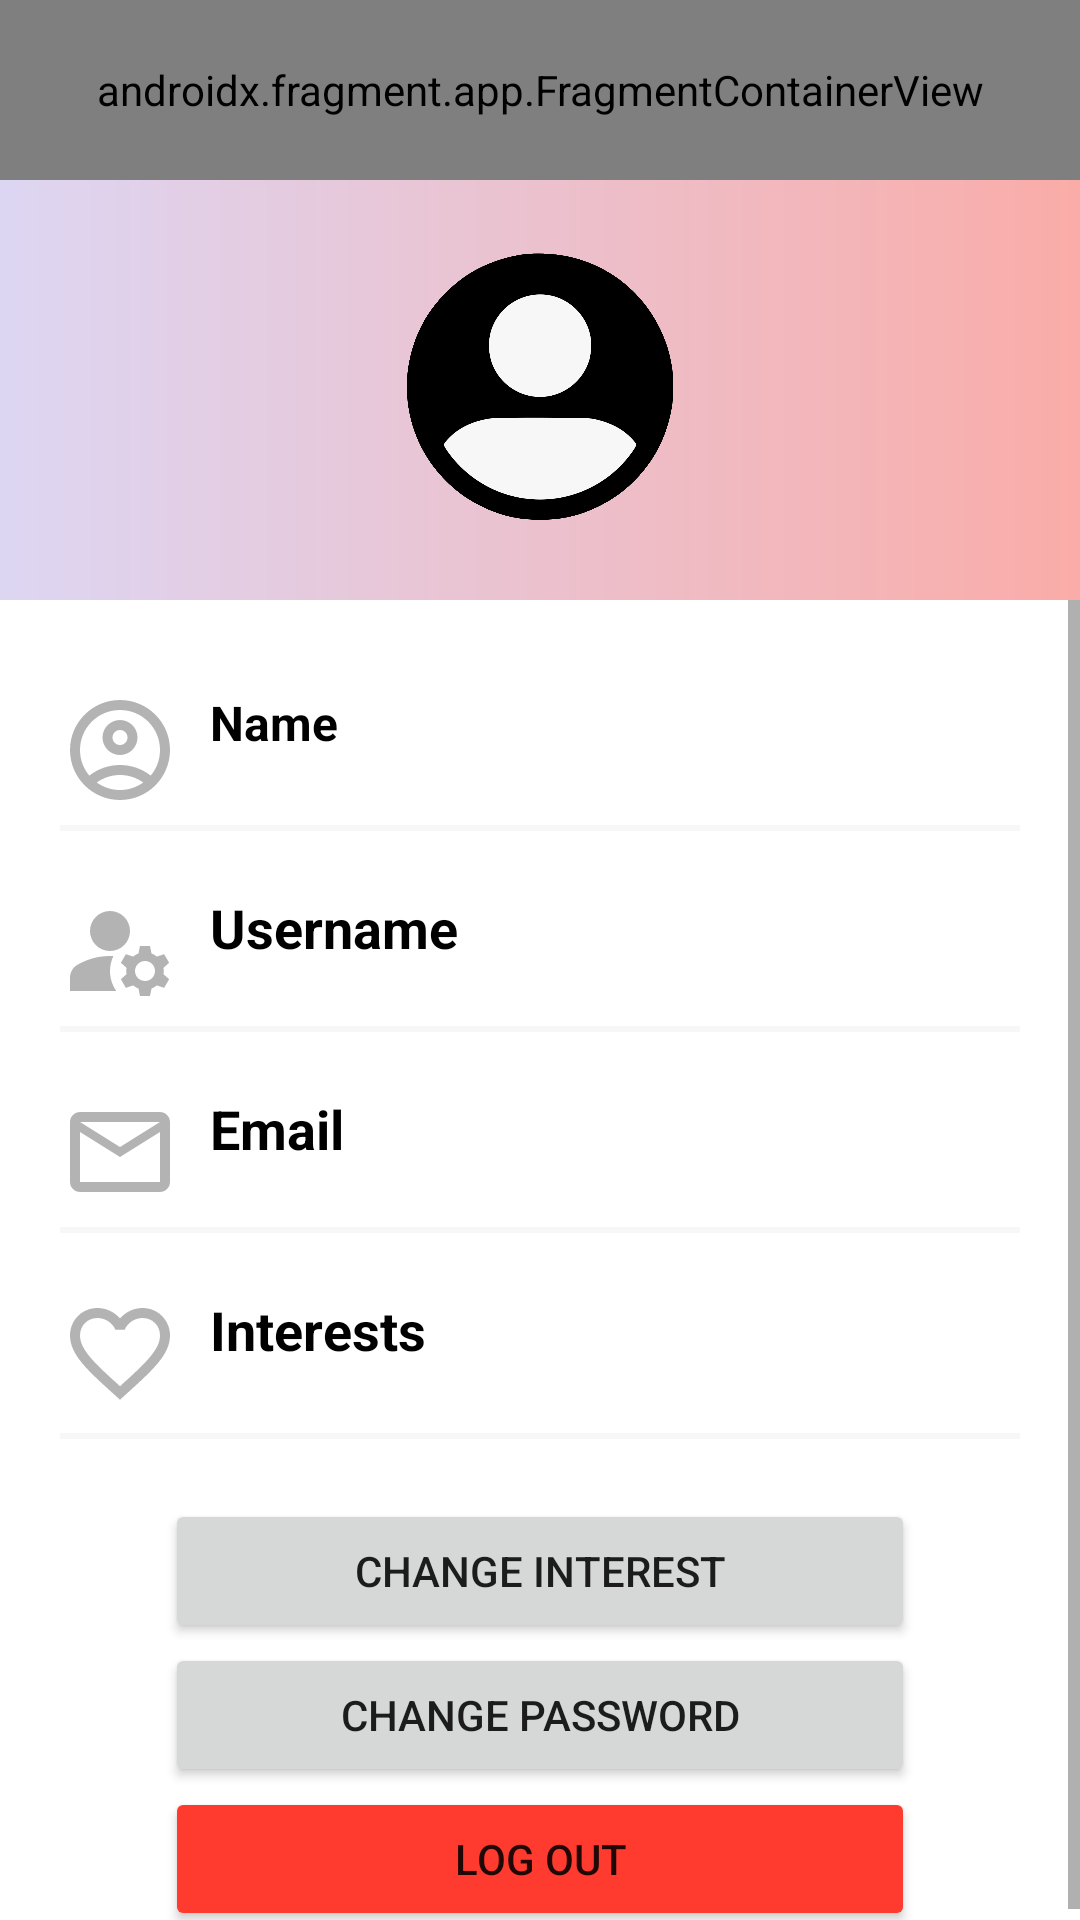

Locate icon controls on the screen. Image size 1080 × 1920, boxes as (x1, y1, x2, y2).
account: (70, 700, 170, 800)
favorite: (70, 1308, 170, 1400)
